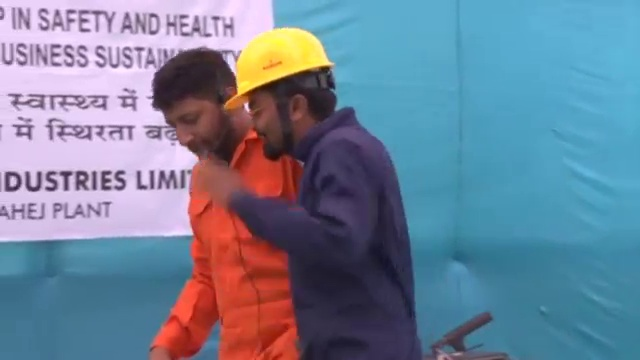helmet: (224, 27, 336, 111)
helmet_off: (154, 48, 240, 163)
helmet_on: (223, 27, 338, 158)
person: (223, 26, 423, 360), (145, 47, 300, 360)
